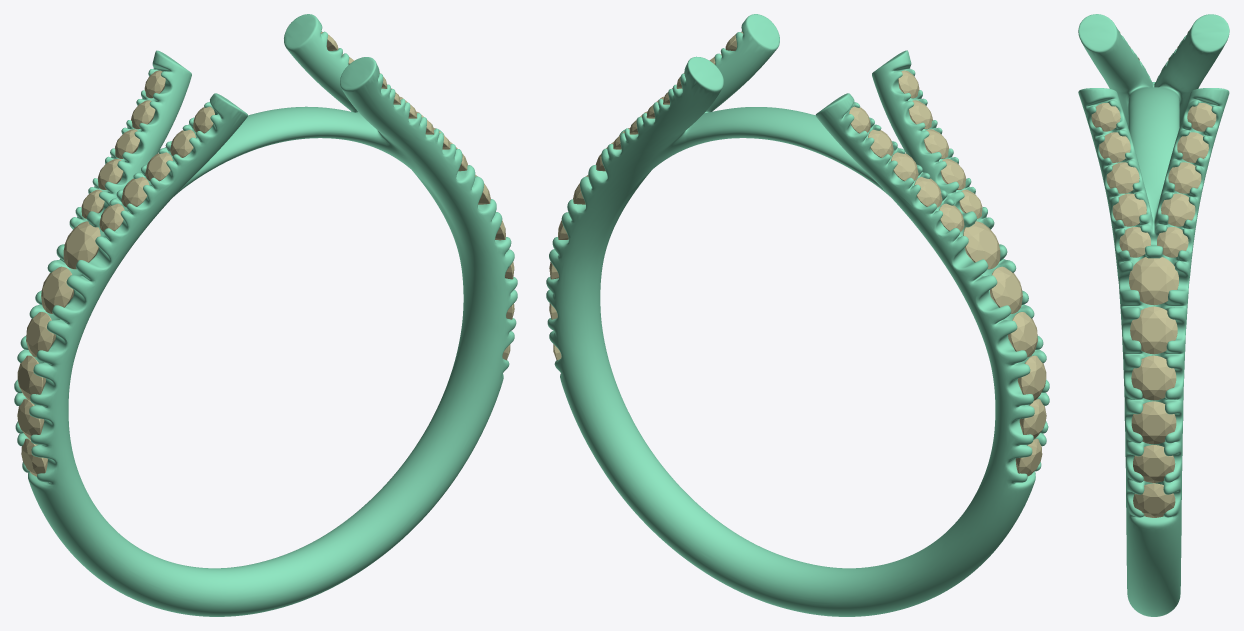
The picture shows the model from 3 angles, left to right: view 1: azimuth 30°, elevation 25°; view 2: azimuth 150°, elevation 25°; view 3: azimuth 270°, elevation 25°; orthographic projection. The views are drawn at different scales.
Parts seen in each view (by area): view 1: Metal02, Diamond_Gem.015, Diamond_Gem.014, Diamond_Gem.013, Diamond_Gem.012; view 2: Metal02, Diamond_Gem.015, Diamond_Gem.014, Diamond_Gem.013, Diamond_Gem.012; view 3: Metal02, Diamond_Gem.016, Diamond_Gem.017, Diamond_Gem.018, Diamond_Gem.019, Diamond_Gem.020, Diamond_Gem.021, Diamond_Gem.023, Diamond_Gem.030, Diamond_Gem.025, Diamond_Gem.029, Diamond_Gem.024 (+5 smaller).
Part boxes in pixels (<box>): Metal02: <box>14,14,517,616</box>; Diamond_Gem.015: <box>63,221,100,269</box>; Diamond_Gem.014: <box>41,266,73,313</box>; Diamond_Gem.013: <box>26,312,55,357</box>; Diamond_Gem.012: <box>17,355,45,400</box>; Metal02: <box>546,14,1049,616</box>; Diamond_Gem.015: <box>963,221,1000,269</box>; Diamond_Gem.014: <box>990,266,1022,313</box>; Diamond_Gem.013: <box>1008,312,1037,357</box>; Diamond_Gem.012: <box>1017,355,1046,400</box>; Metal02: <box>1078,14,1229,616</box>; Diamond_Gem.016: <box>1129,257,1178,305</box>; Diamond_Gem.017: <box>1130,306,1177,354</box>; Diamond_Gem.018: <box>1131,355,1176,400</box>; Diamond_Gem.019: <box>1131,401,1176,444</box>; Diamond_Gem.020: <box>1133,445,1175,482</box>; Diamond_Gem.021: <box>1133,483,1175,517</box>; Diamond_Gem.023: <box>1161,193,1195,226</box>; Diamond_Gem.030: <box>1112,193,1146,226</box>; Diamond_Gem.025: <box>1168,162,1201,193</box>; Diamond_Gem.029: <box>1106,162,1139,193</box>; Diamond_Gem.024: <box>1177,132,1208,162</box>.
Bounding box in the file's own units: 20.82 × 22.55 × 5.72.
